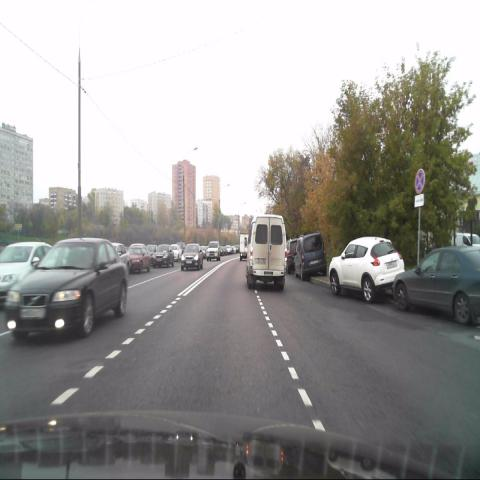3_27: (415, 169, 425, 194)
